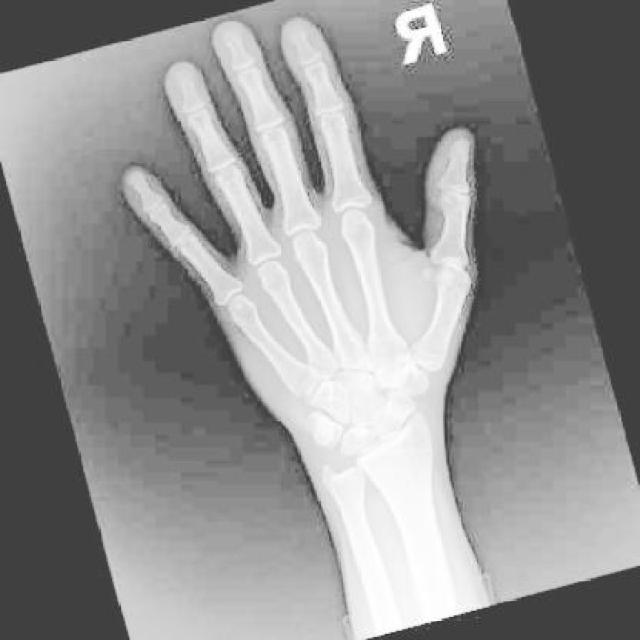Fracture: (377, 391, 423, 427)
